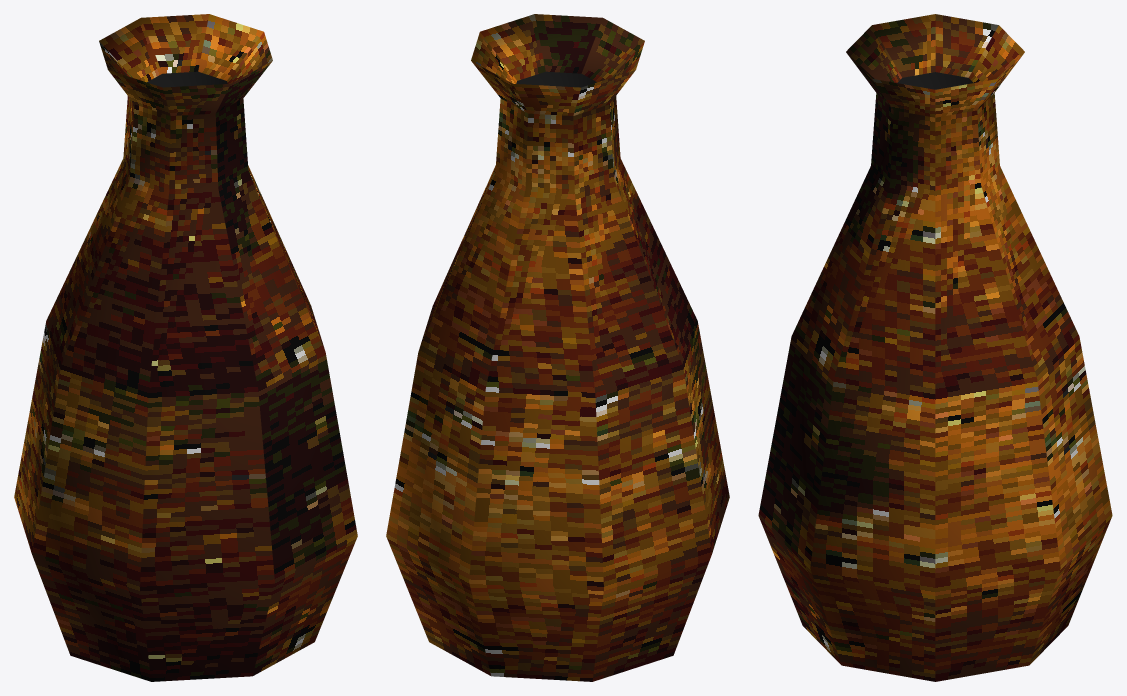
The model's file is URN3_ACTORDEF.fbx.
The picture shows the model from 3 angles, left to right: view 1: azimuth 30°, elevation 25°; view 2: azimuth 150°, elevation 25°; view 3: azimuth 270°, elevation 25°; orthographic projection.
Parts seen in each view (by area): view 1: U3DMesh; view 2: U3DMesh; view 3: U3DMesh.
Part boxes in pixels (x1=…): U3DMesh: x1=14, y1=14, x2=357, y2=681; U3DMesh: x1=386, y1=14, x2=729, y2=681; U3DMesh: x1=758, y1=14, x2=1112, y2=681.
Bounding box in the file's own units: 2.45 × 4.39 × 2.45.
